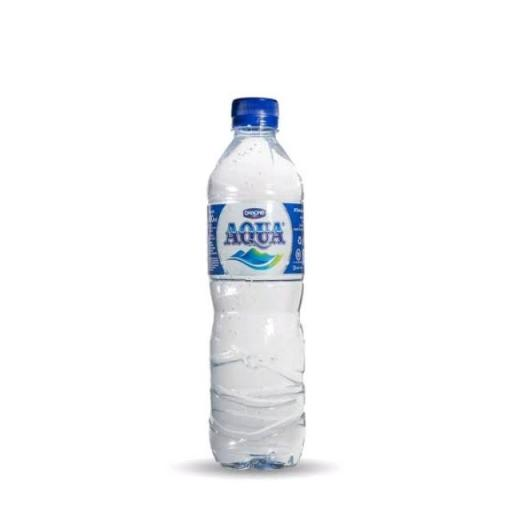plastic: (196, 89, 315, 476)
